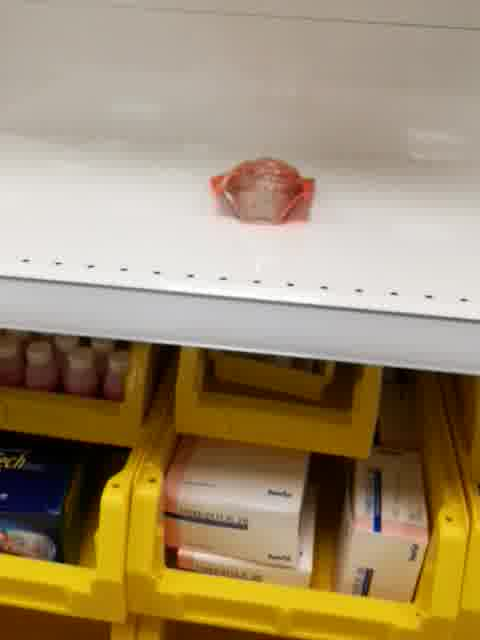whitechia: (210, 154, 316, 228)
